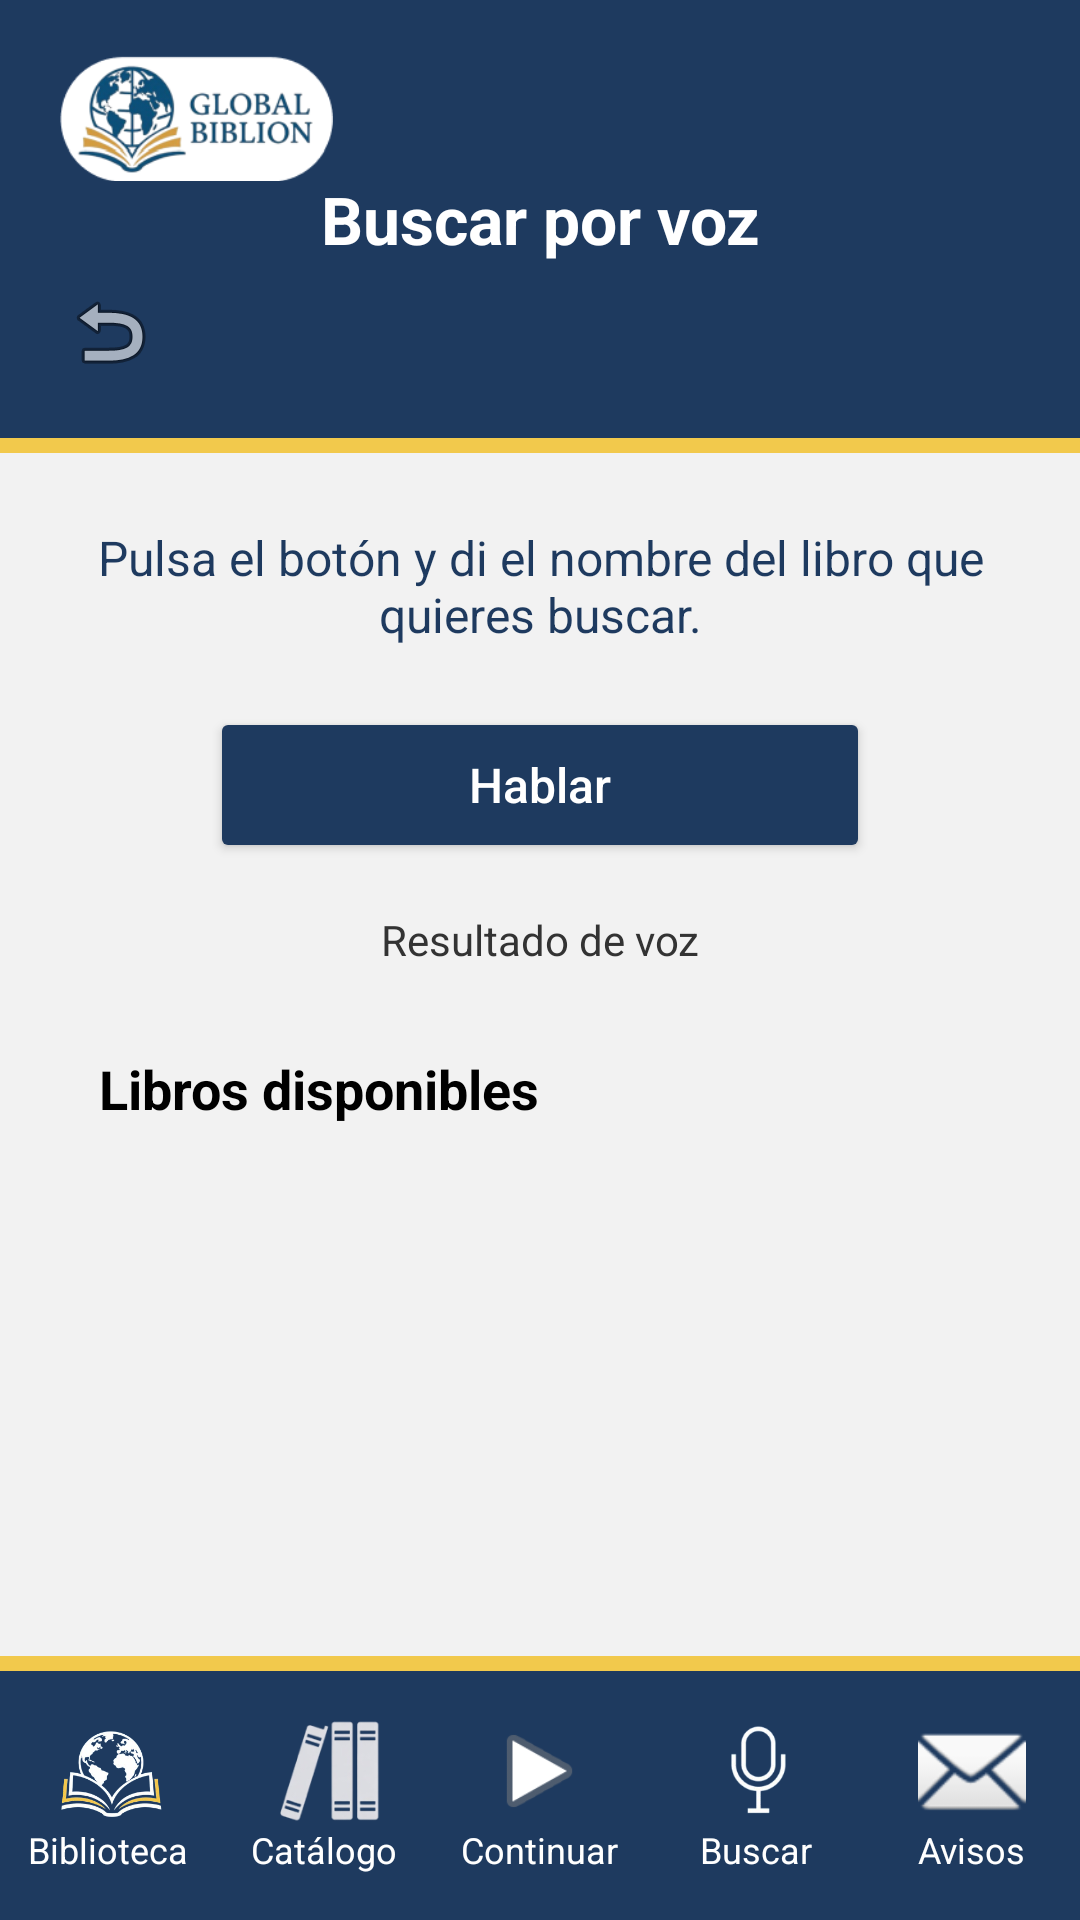

Screen size 1080*1920. Icon name, then its center in pixels as [x,y]:
email: [972,1772]
microfono: [758,1769]
play: [539,1771]
Volver: [111,333]
